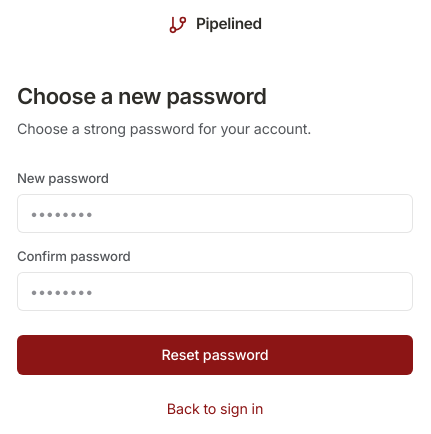
it: ResetPassword › should show success state with Sign in button on valid reset
The image size is (431, 434).
In the password field labelled "New password": (215, 214) [17,194,413,233], type "NewPass123!"
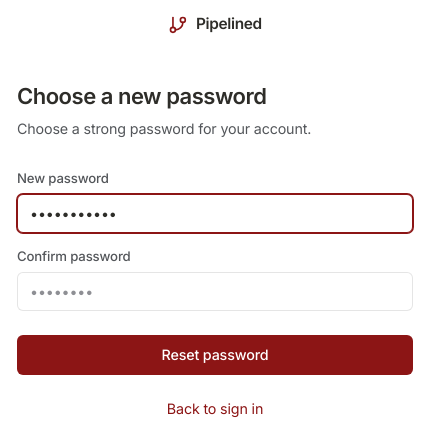
In the password field labelled "Confirm password": (215, 292) [17,272,413,311], type "NewPass123!"
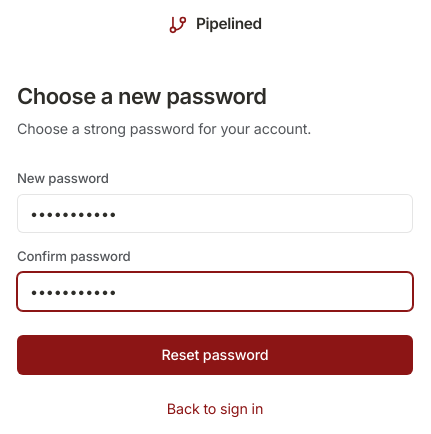
Click the button "Reset password": (215, 355) [17,335,413,375]
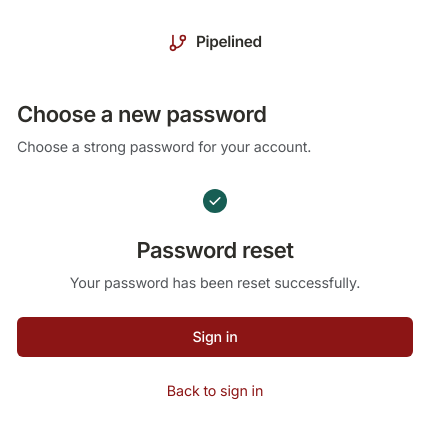
expect the text "Your password has been reset successfully." is shown: met, box [70,273,360,293]
expect the button "Sign in" is shown: met, box [17,318,413,357]
